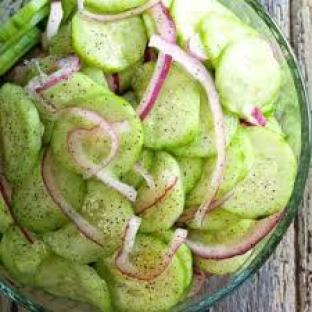Cucumber: (45, 74, 142, 176), (45, 181, 133, 263), (222, 128, 296, 219), (98, 254, 191, 311), (217, 37, 281, 117), (143, 66, 199, 149), (73, 13, 146, 73), (0, 84, 42, 183), (35, 256, 110, 311), (135, 153, 184, 232), (13, 160, 66, 232), (171, 92, 216, 158), (199, 13, 256, 65), (189, 220, 263, 259), (0, 227, 49, 284), (217, 129, 253, 198), (42, 73, 109, 109), (0, 6, 49, 54), (43, 224, 101, 264), (0, 28, 41, 76), (195, 251, 252, 274), (21, 56, 59, 85), (177, 157, 203, 194), (200, 208, 241, 231), (116, 62, 141, 94), (49, 23, 73, 55), (177, 245, 192, 285), (82, 67, 108, 88), (0, 195, 12, 232), (265, 117, 285, 137), (138, 149, 153, 171), (143, 13, 156, 37), (123, 92, 138, 109)
